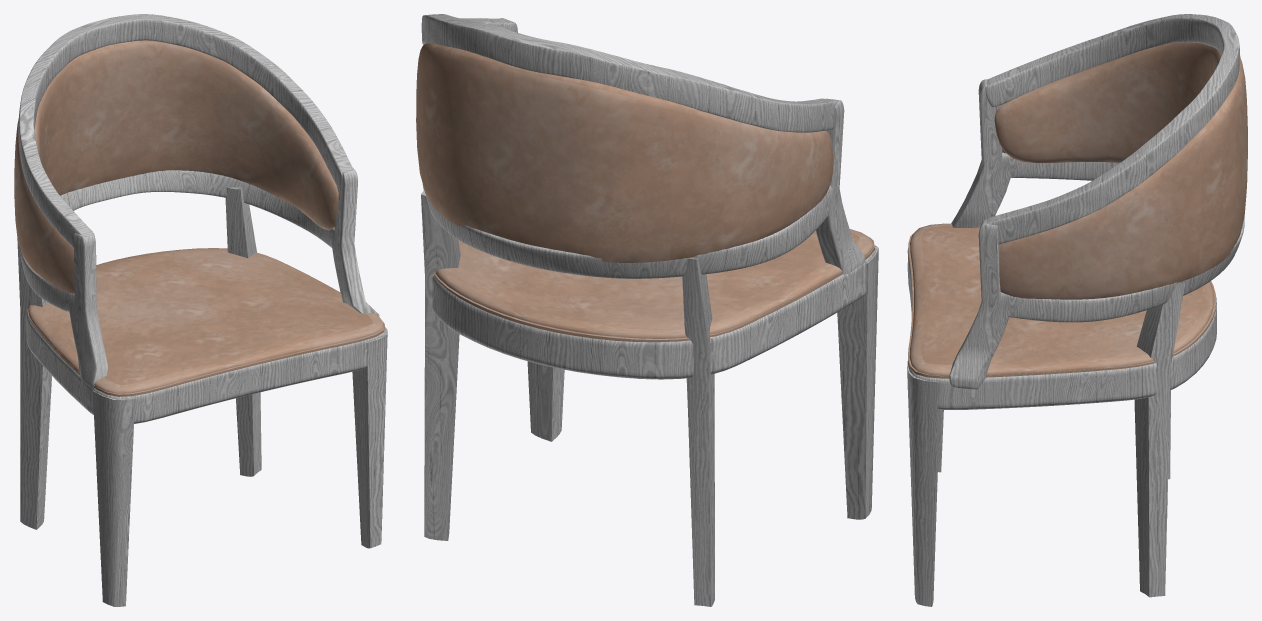
3 renders of one model, left to right at view 1: azimuth 30°, elevation 25°; view 2: azimuth 150°, elevation 25°; view 3: azimuth 270°, elevation 25°, orthographic. The views are drawn at different scales.
Visible parts, largest first — view 1: Torus, Cube_2, Cube, Torus_3, Torus_2, Cube_1; view 2: Torus, Cube_2, Cube, Torus_3, Torus_2, Cube_1; view 3: Torus, Cube_2, Cube, Torus_3, Torus_2, Cube_1.
Boxes of the visible parts, box(x1,y1,x2,y2) form: Torus: box(14, 40, 338, 293); Cube_2: box(17, 187, 387, 606); Cube: box(28, 248, 384, 393); Torus_3: box(18, 14, 352, 247); Torus_2: box(19, 168, 379, 388); Cube_1: box(27, 308, 384, 396); Torus: box(416, 43, 833, 262); Cube_2: box(421, 190, 878, 606); Cube: box(435, 229, 873, 338); Torus_3: box(421, 14, 837, 132); Torus_2: box(422, 18, 864, 278); Cube_1: box(434, 240, 874, 342); Torus: box(994, 42, 1247, 299); Cube_2: box(907, 248, 1216, 606); Cube: box(909, 223, 1214, 376); Torus_3: box(985, 14, 1240, 244); Torus_2: box(949, 79, 1244, 389); Cube_1: box(908, 230, 1216, 378).
Size of the model in its own units: 0.4188 by 0.626 by 0.3923.
4 materials, 4 textured.
